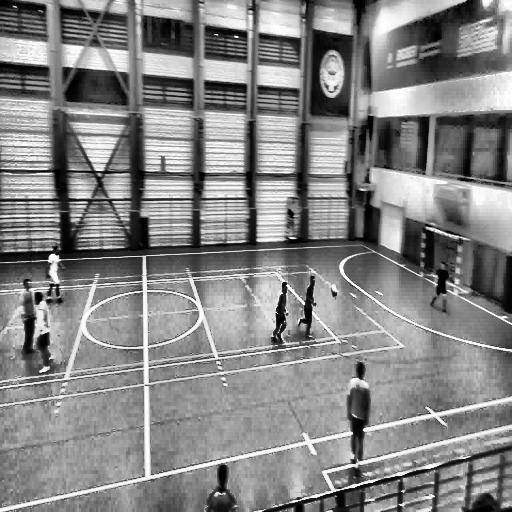ball: (332, 286, 338, 296)
player: (347, 360, 370, 477), (35, 290, 54, 373), (19, 277, 37, 355), (296, 276, 316, 340), (428, 259, 448, 313), (46, 246, 64, 304), (272, 281, 288, 344)
